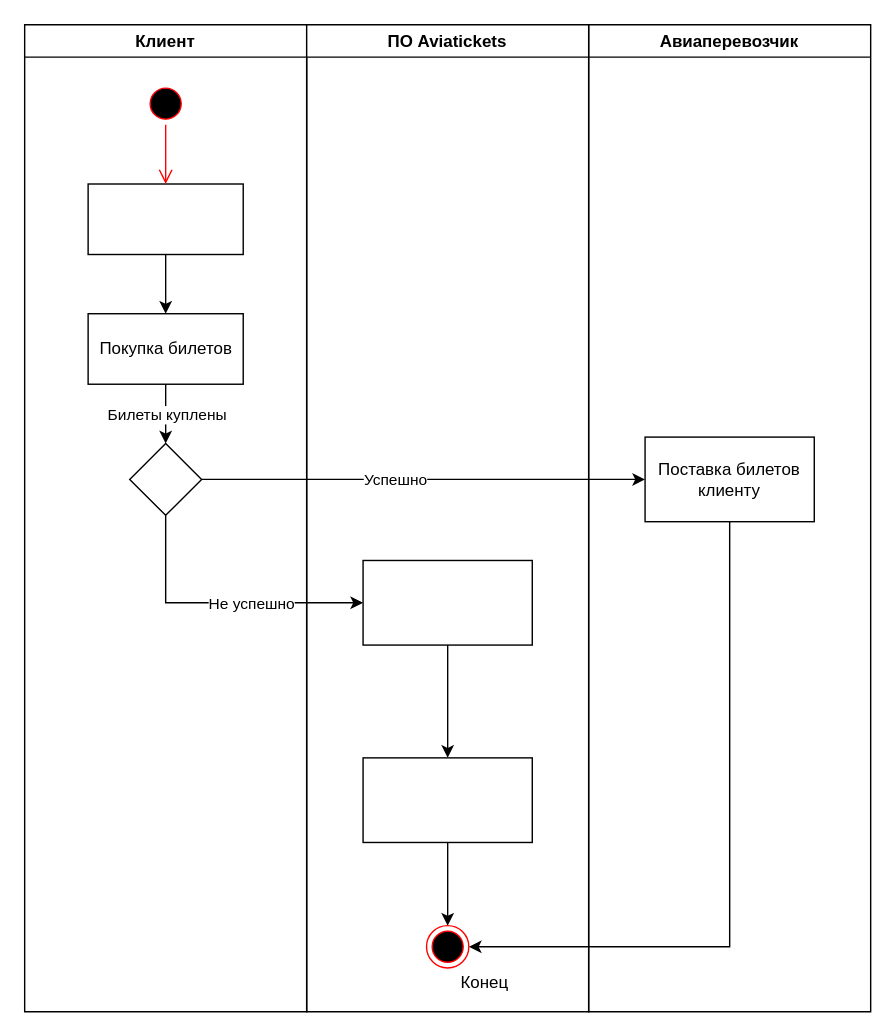
This 895x1036 diagram has some shape labels left out. Each missing label, with the centre of its shape:
Возврат денег: the point at 447,602
Выбор билетов: the point at 165,219
Отмена заказа: the point at 447,799
